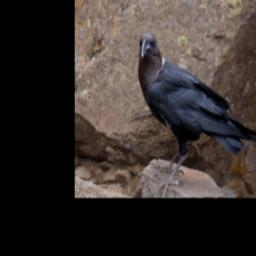Crow: (138, 32, 256, 197)
